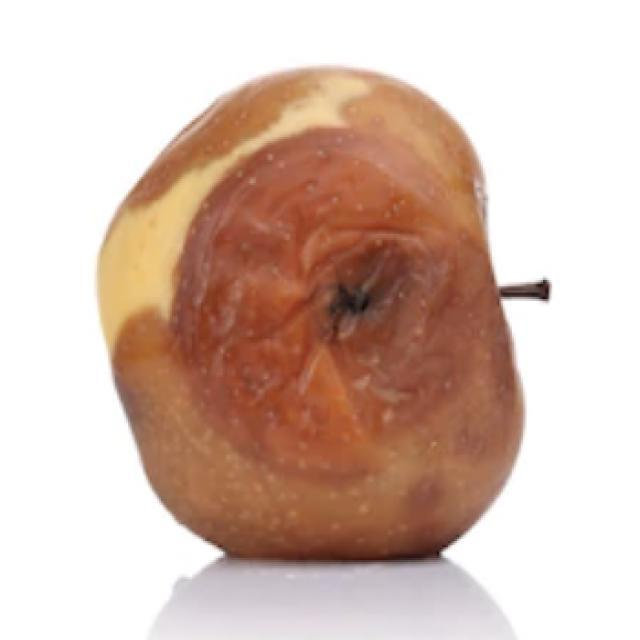Rotten: (106, 68, 542, 570)
